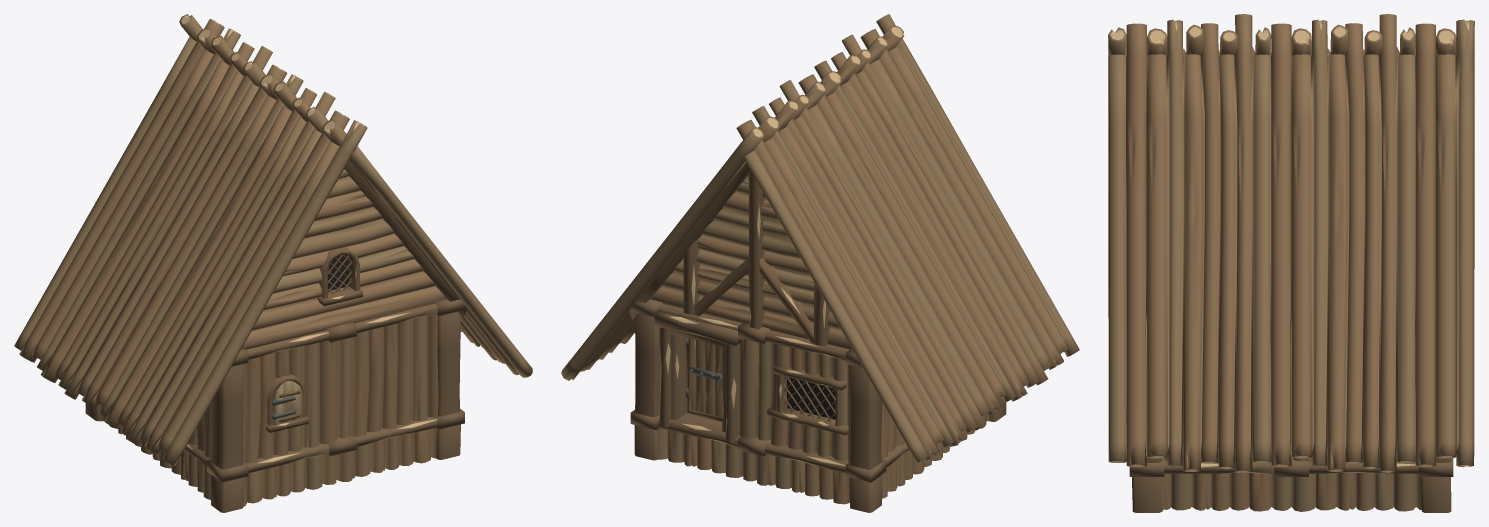
The model's file is rpgpp_ag_building_closed_03.fbx.
3 renders of one model, left to right at view 1: azimuth 30°, elevation 25°; view 2: azimuth 150°, elevation 25°; view 3: azimuth 270°, elevation 25°, orthographic. The views are drawn at different scales.
Parts seen in each view (by area): view 1: rpgpp_ag_building_closed_03; view 2: rpgpp_ag_building_closed_03; view 3: rpgpp_ag_building_closed_03.
Part boxes in pixels (left/top/right/bottom): rpgpp_ag_building_closed_03: left=14, top=14, right=532, bottom=512; rpgpp_ag_building_closed_03: left=561, top=14, right=1079, bottom=512; rpgpp_ag_building_closed_03: left=1108, top=14, right=1474, bottom=512.
Bounding box in the file's own units: 10.4 × 9.77 × 7.61.
